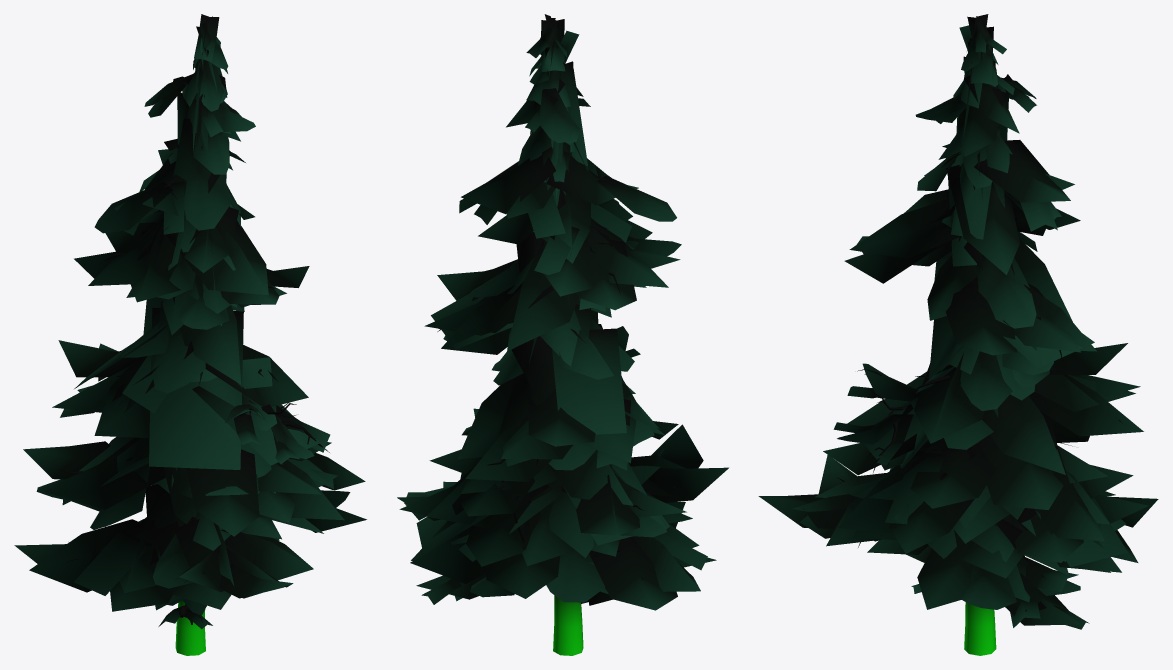
The model's file is SM_Pine03.fbx.
3 renders of one model, left to right at view 1: azimuth 30°, elevation 25°; view 2: azimuth 150°, elevation 25°; view 3: azimuth 270°, elevation 25°, orthographic. The views are drawn at different scales.
Parts seen in each view (by area): view 1: SM_Pine03_LOD0; view 2: SM_Pine03_LOD0; view 3: SM_Pine03_LOD0.
Part boxes in pixels (x1,y1,x2,y2): SM_Pine03_LOD0: (14, 14, 366, 655); SM_Pine03_LOD0: (397, 14, 728, 655); SM_Pine03_LOD0: (758, 14, 1158, 655).
Size of the model in its own units: 998 by 1952 by 1103.
